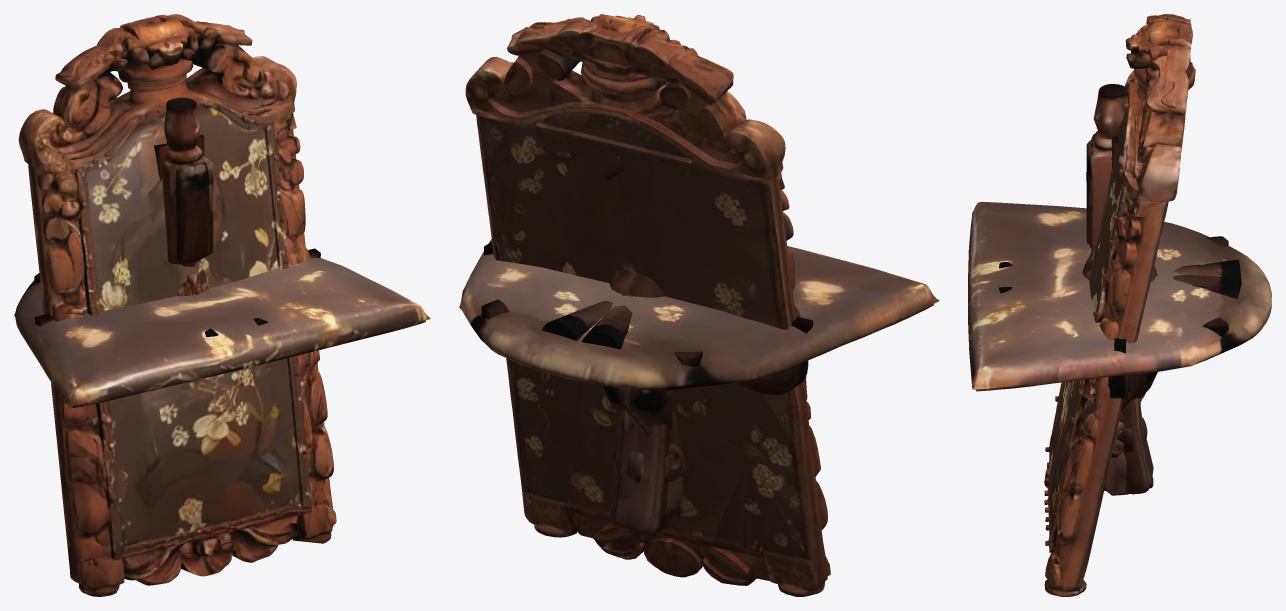
The picture shows the model from 3 angles, left to right: view 1: azimuth 30°, elevation 25°; view 2: azimuth 150°, elevation 25°; view 3: azimuth 270°, elevation 25°; orthographic projection. The views are drawn at different scales.
Visible parts, largest first — view 1: root.0, root.1, root.2, root.3, root.5; view 2: root.0, root.1, root.2, root.3, root.5, root.6, root.9, root.8, root.4, root.7; view 3: root.1, root.0, root.3, root.2, root.6, root.9, root.8, root.4, root.5, root.7.
Part boxes in pixels (x1,y1,x2,y2): root.0: [18, 14, 336, 596]; root.1: [14, 257, 430, 407]; root.2: [162, 97, 209, 266]; root.3: [164, 97, 213, 266]; root.5: [154, 144, 209, 295]; root.0: [465, 14, 830, 596]; root.1: [459, 239, 939, 389]; root.2: [610, 81, 683, 535]; root.3: [613, 417, 670, 536]; root.5: [624, 272, 672, 483]; root.6: [601, 270, 686, 483]; root.9: [542, 294, 624, 340]; root.8: [582, 295, 633, 349]; root.4: [737, 360, 808, 395]; root.7: [481, 299, 703, 366]; root.1: [968, 201, 1271, 391]; root.0: [1044, 14, 1195, 596]; root.3: [1086, 89, 1153, 495]; root.2: [1086, 84, 1153, 494]; root.6: [1085, 135, 1157, 452]; root.9: [999, 262, 1241, 299]; root.8: [999, 259, 1241, 293]; root.4: [1108, 374, 1130, 399]; root.5: [1082, 136, 1155, 457]; root.7: [1202, 236, 1228, 336].
Bounding box in the file's own units: 26765 × 36539 × 19364.
1 material, 1 textured.
